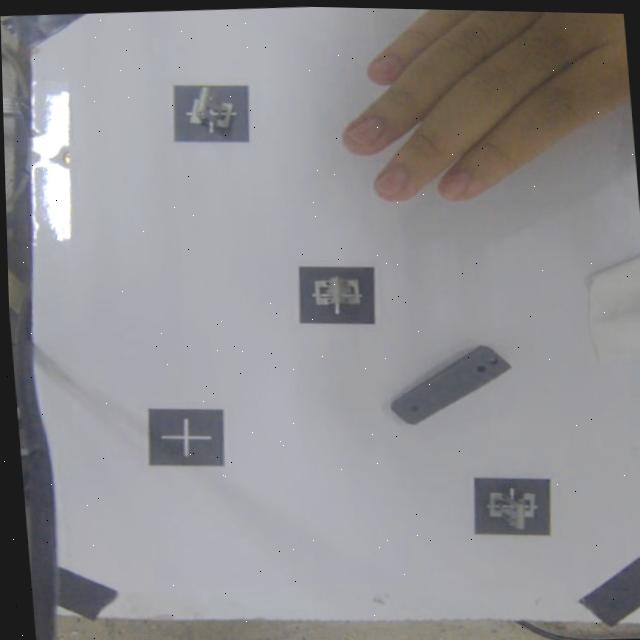pick1: (174, 77, 251, 145)
pick3: (298, 263, 376, 328)
pick5: (470, 475, 551, 542)
